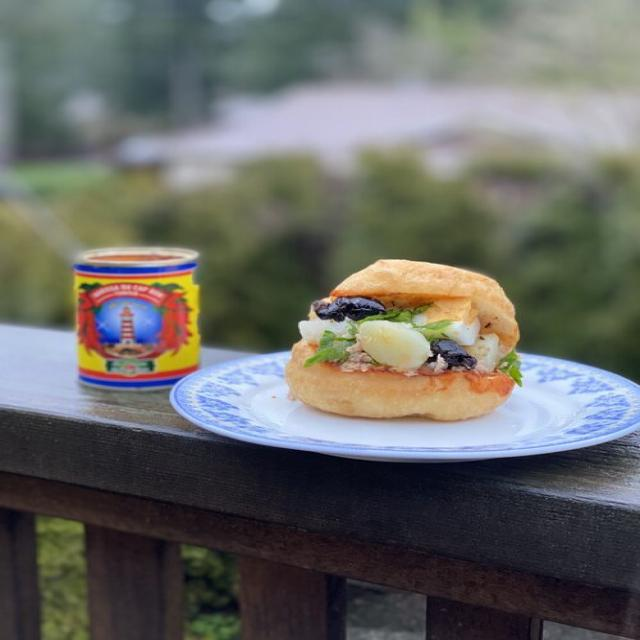Frecasse: (287, 260, 520, 421)
Harissa: (75, 248, 198, 389)
